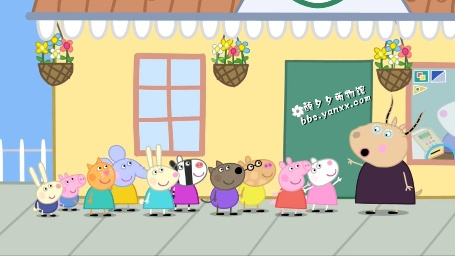Peppa: (272, 156, 314, 219)
